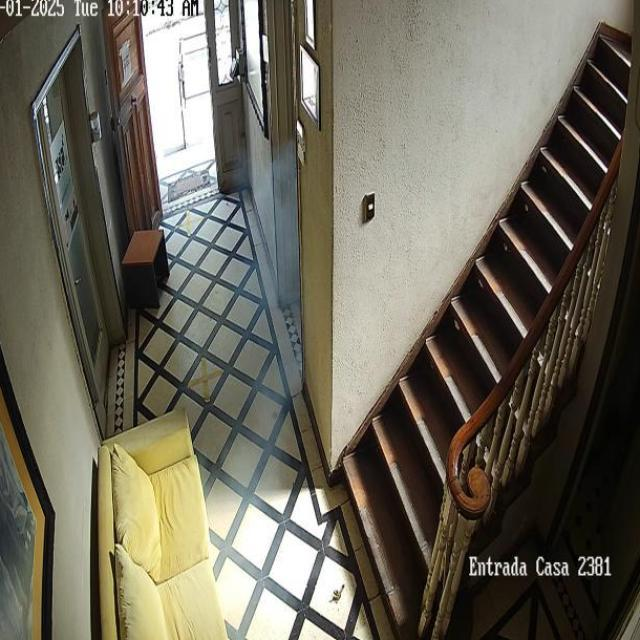fire: (178, 127, 302, 640)
